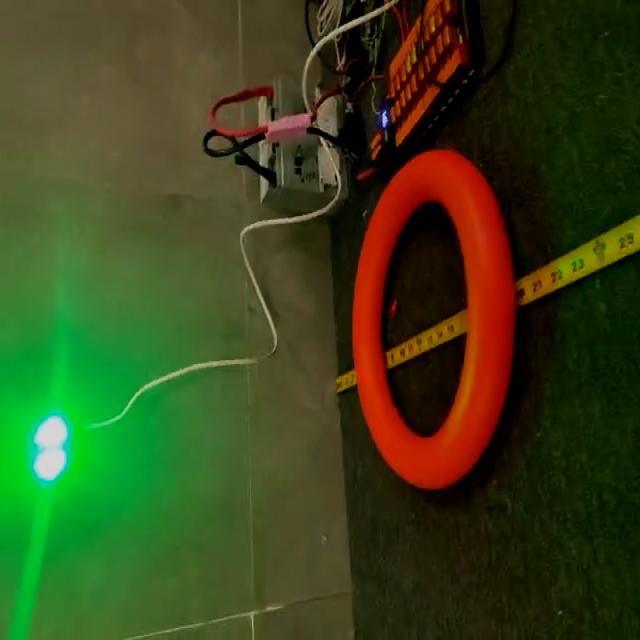note: (352, 148, 520, 492)
